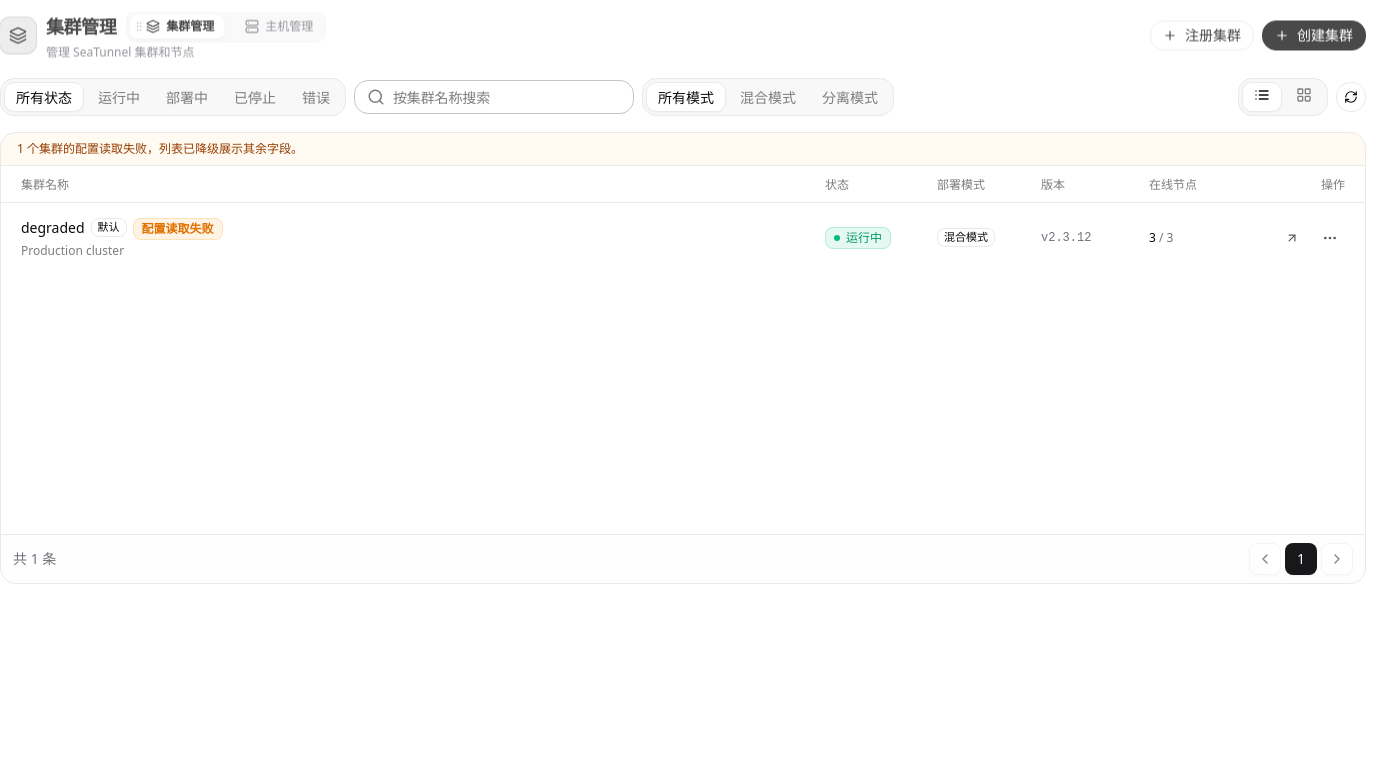
ClusterMain › hides stale config warnings while the list request is in error
The image size is (1378, 780).
Expected: the message "1 个集群的配置读取失败，列表已降级展示其余字段。" is shown, x1=1 y1=133 x2=1365 y2=166
Click the button named "刷新" at (1351, 97), box x1=1336 y1=82 x2=1366 y2=112
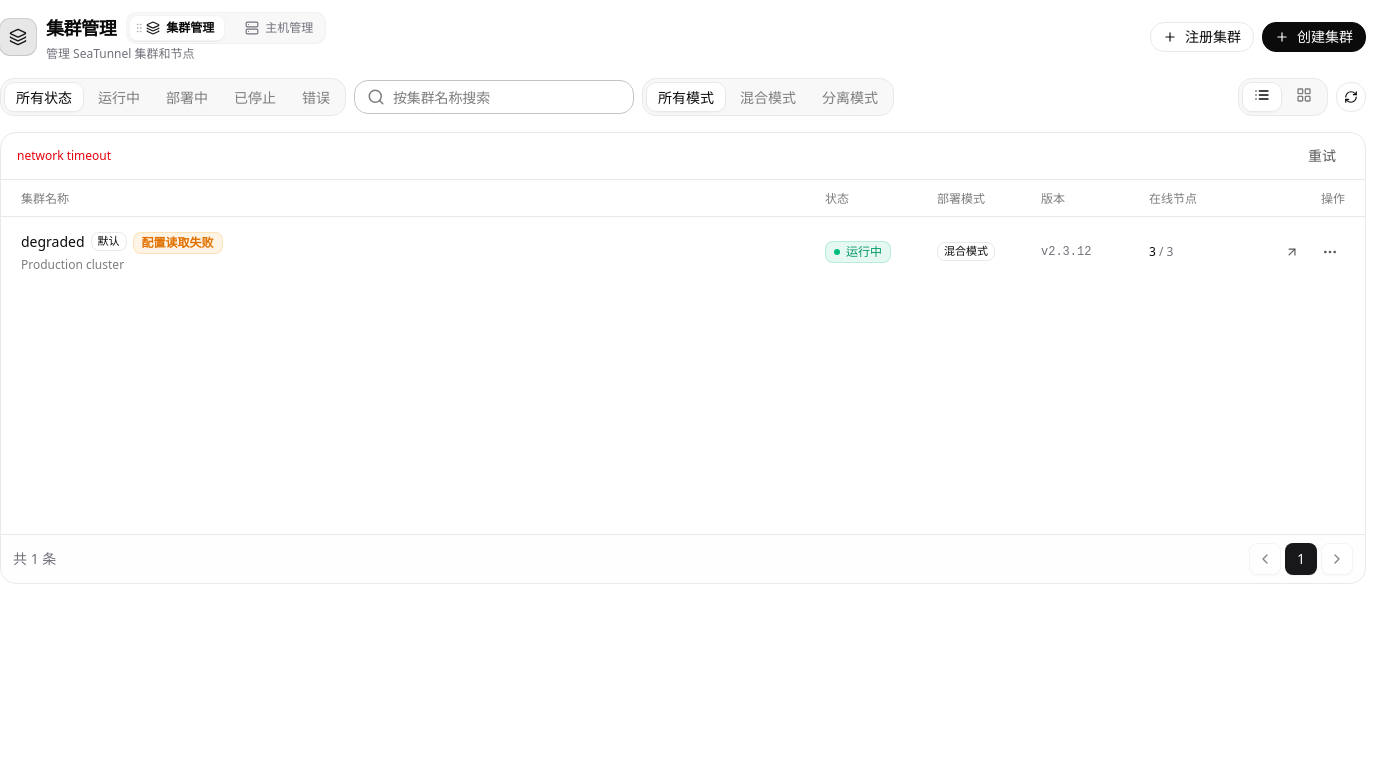
Result: the text "network timeout" is shown at x1=17 y1=147 x2=111 y2=164
Result: the message with test id "cluster-list-warnings" is gone
